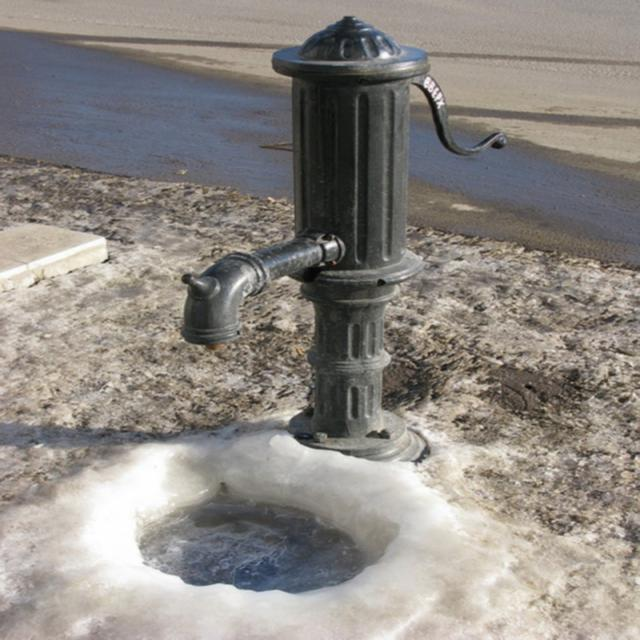fire_hydrant: (167, 8, 512, 469)
